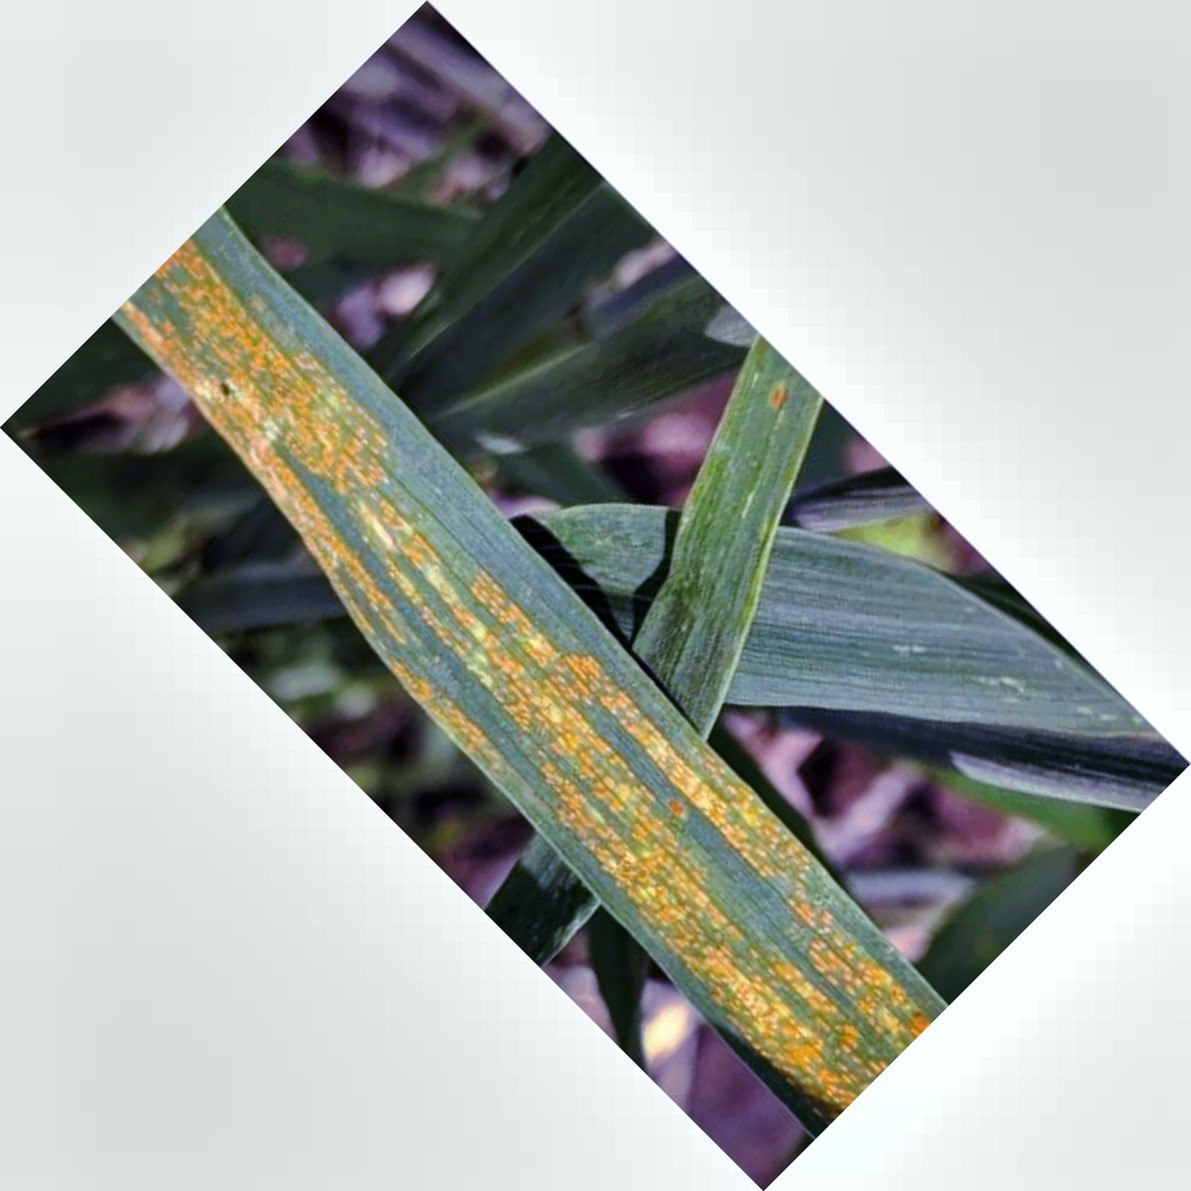Leaf Rust: (202, 309, 929, 1072)
